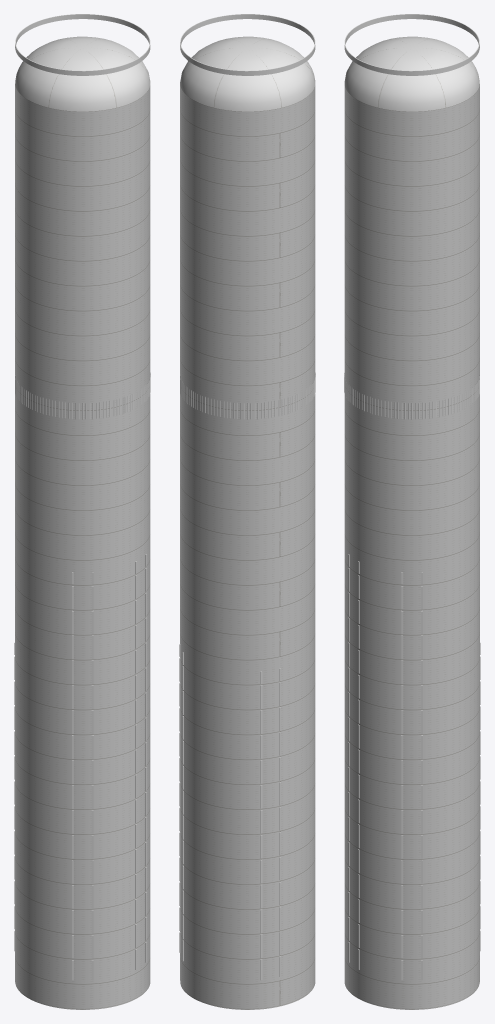
The model's file is booster_v3.gltf.
3 views of the same model, side by side, from view 1: azimuth 30°, elevation 25°; view 2: azimuth 150°, elevation 25°; view 3: azimuth 330°, elevation 25° (orthographic).
Parts seen in each view (by area): view 1: FWD_DOME, CX3_Ring_1.001, F24_Ring_4, A24_Ring_4, FX3_Ring_1, A24_Ring_1, FX3_Ring_2, F24_Ring_2, A24_Ring_2, A24_Ring_3, FX3_Ring_3, F24_Ring_3 (+31 smaller); view 2: FWD_DOME, CX3_Ring_1.001, A24_Ring_3, A24_Ring_4, FX3_Ring_2, FX3_Ring_3, A24_Ring_2, A34_Ring_4, FX3_Ring_1, F24_Ring_4, F24_Ring_3, A24_Ring_1 (+30 smaller); view 3: FWD_DOME, CX3_Ring_1.001, F24_Ring_4, A24_Ring_4, FX3_Ring_1, A24_Ring_1, FX3_Ring_2, F24_Ring_2, A24_Ring_2, A24_Ring_3, FX3_Ring_3, F24_Ring_3 (+31 smaller).
Boxes of the visible parts, box(x1,y1,x2,y2) form: FWD_DOME: box(15, 36, 150, 111); CX3_Ring_1.001: box(15, 408, 150, 460); F24_Ring_4: box(15, 159, 150, 211); A24_Ring_4: box(15, 433, 150, 485); FX3_Ring_1: box(15, 134, 150, 186); A24_Ring_1: box(15, 508, 150, 560); FX3_Ring_2: box(15, 109, 150, 161); F24_Ring_2: box(15, 209, 150, 261); A24_Ring_2: box(15, 483, 150, 535); A24_Ring_3: box(15, 458, 150, 510); FX3_Ring_3: box(15, 84, 150, 136); F24_Ring_3: box(15, 184, 150, 236); FWD_DOME: box(180, 36, 315, 111); CX3_Ring_1.001: box(180, 407, 315, 460); A24_Ring_3: box(180, 456, 315, 510); A24_Ring_4: box(180, 431, 315, 485); FX3_Ring_2: box(180, 107, 315, 161); FX3_Ring_3: box(180, 82, 315, 136); A24_Ring_2: box(180, 481, 315, 535); A34_Ring_4: box(180, 531, 315, 585); FX3_Ring_1: box(180, 132, 315, 186); F24_Ring_4: box(180, 157, 315, 211); F24_Ring_3: box(180, 182, 315, 236); A24_Ring_1: box(180, 506, 315, 560); FWD_DOME: box(344, 36, 479, 111); CX3_Ring_1.001: box(344, 408, 479, 460); F24_Ring_4: box(344, 159, 479, 211); A24_Ring_4: box(344, 433, 479, 485); FX3_Ring_1: box(344, 134, 479, 186); A24_Ring_1: box(344, 508, 479, 560); FX3_Ring_2: box(344, 109, 479, 161); F24_Ring_2: box(344, 209, 479, 261); A24_Ring_2: box(344, 483, 479, 535); A24_Ring_3: box(344, 458, 479, 510); FX3_Ring_3: box(344, 84, 479, 136); F24_Ring_3: box(344, 184, 479, 236).
Bounding box in the file's own units: 9.05 × 69.45 × 9.03.
Materials: 5 (3 with a texture image).
